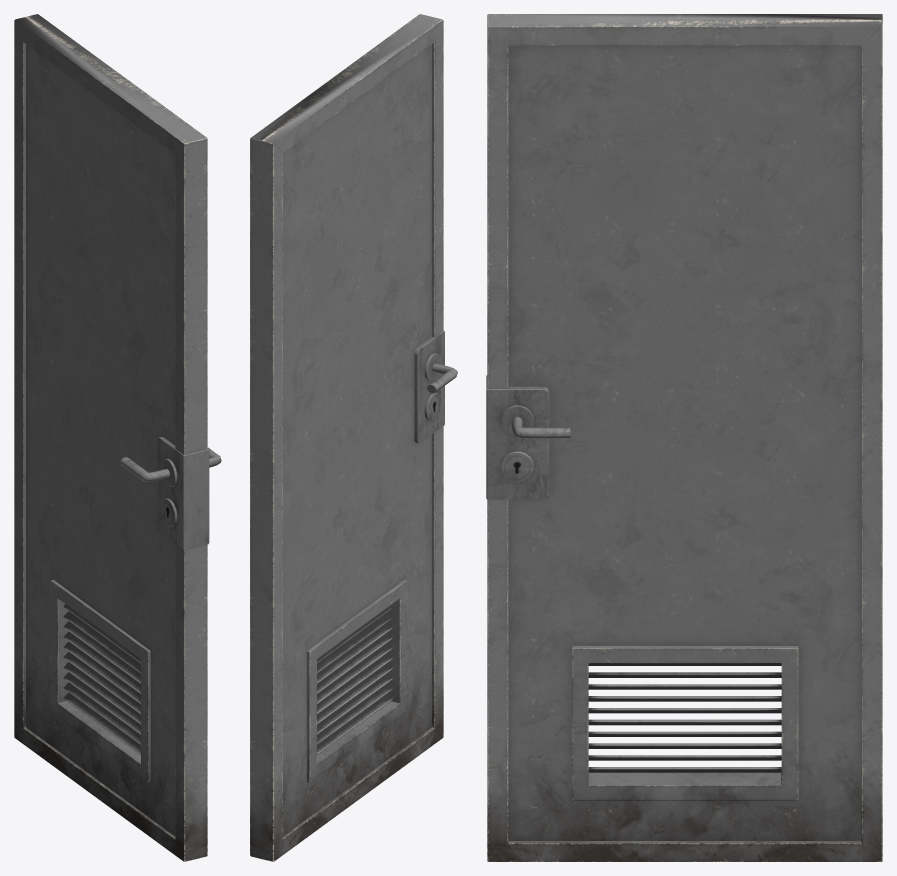
Rendered from SM_Door_06.fbx.
3 views of the same model, side by side, from view 1: azimuth 30°, elevation 25°; view 2: azimuth 150°, elevation 25°; view 3: azimuth 270°, elevation 25° (orthographic). The views are drawn at different scales.
Parts seen in each view (by area): view 1: SM_Door_06_LOD0; view 2: SM_Door_06_LOD0; view 3: SM_Door_06_LOD0.
Part boxes in pixels (x1=…): SM_Door_06_LOD0: x1=14, y1=14, x2=221, y2=861; SM_Door_06_LOD0: x1=250, y1=14, x2=457, y2=861; SM_Door_06_LOD0: x1=486, y1=14, x2=882, y2=861.
Size of the model in its own units: 20.78 by 76.49 by 178.
1 material, 1 textured.
